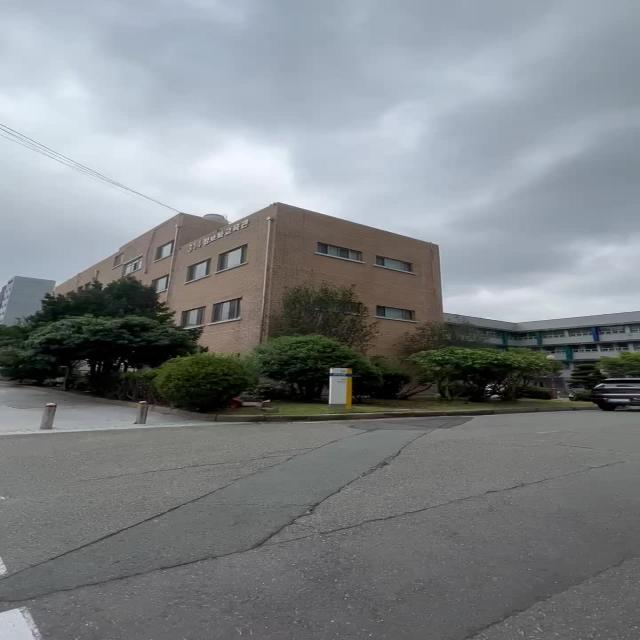building: (132, 204, 490, 319)
